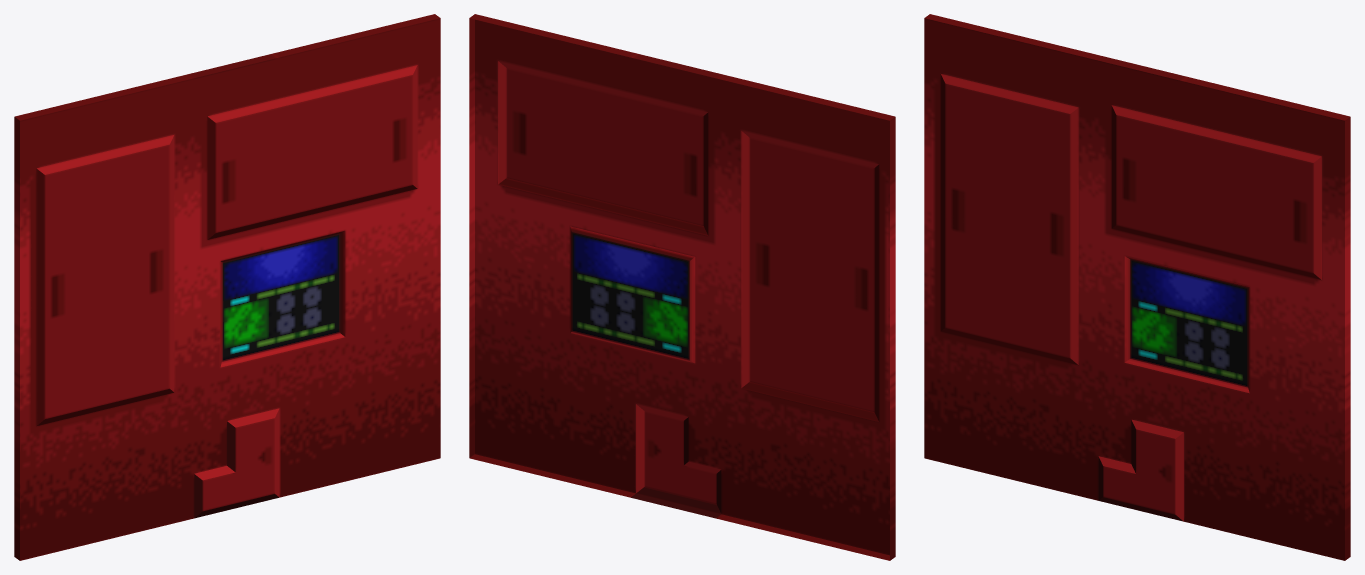
File: reac1_9.fbx
The picture shows the model from 3 angles, left to right: view 1: azimuth 30°, elevation 25°; view 2: azimuth 150°, elevation 25°; view 3: azimuth 330°, elevation 25°; orthographic projection.
Visible parts, largest first — view 1: reac1_9; view 2: reac1_9; view 3: reac1_9.
Part boxes in pixels (x1,y1,x2,y2): reac1_9: [14, 14, 440, 560]; reac1_9: [469, 14, 895, 560]; reac1_9: [924, 14, 1350, 560].
Size of the model in its own units: 256 by 256 by 8.
